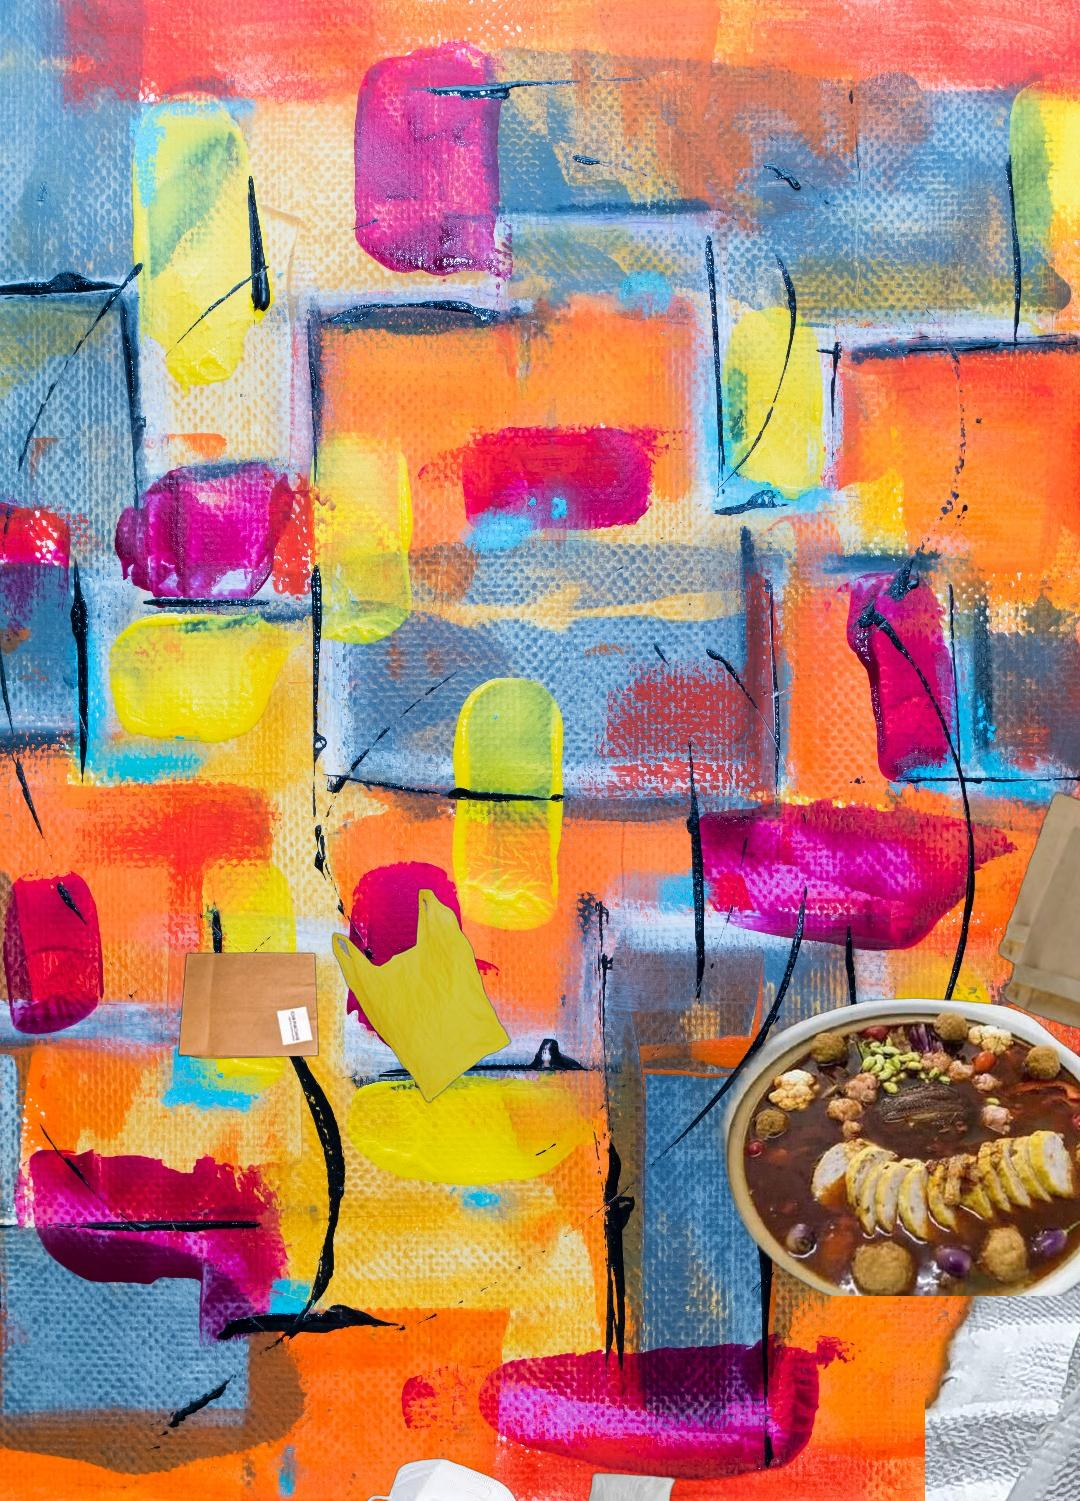biological: (654, 995, 1080, 1296)
paper-bag: (997, 783, 1080, 1038), (177, 950, 322, 1060)
plastic-bag: (330, 886, 511, 1104), (487, 1470, 680, 1501)
trash: (357, 1456, 559, 1501)
trashbox-cardboard: (925, 747, 1080, 1501)
